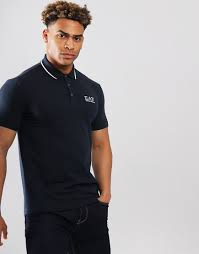C_polo shirt: (1, 53, 113, 212)
